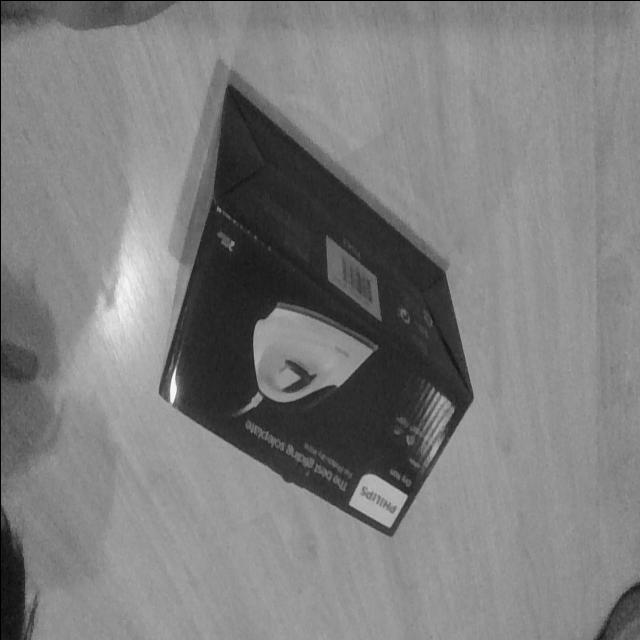IRON: (156, 78, 475, 540)
